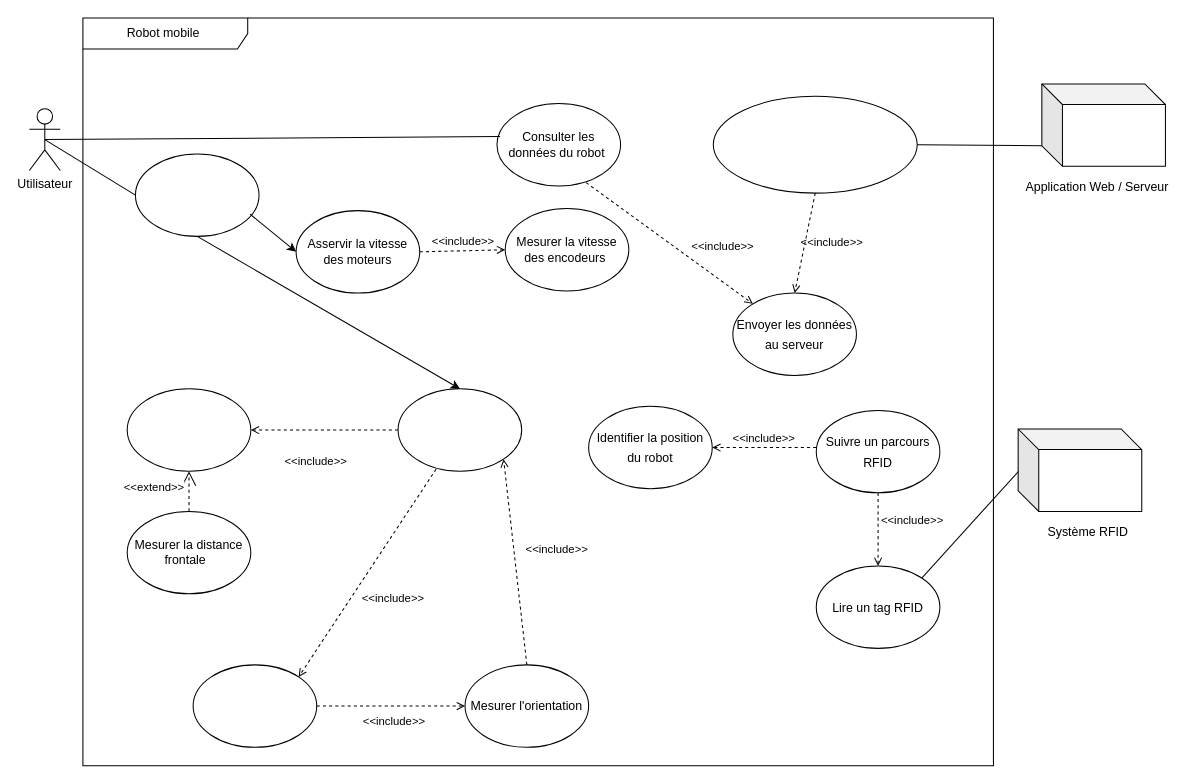
This 1195x784 diagram has some shape labels left out. The centre of each missing label's shape, as x and y in pixels:
"Afficher les données relatives au robot via l'ESP 32" goes at (x=814, y=144).
"Corriger la trajectoire" goes at (x=254, y=705).
"Démarrer le robot" goes at (x=196, y=194).
"Eviter un obstacle" goes at (x=188, y=429).
"Suivre une ligne" goes at (x=459, y=429).
